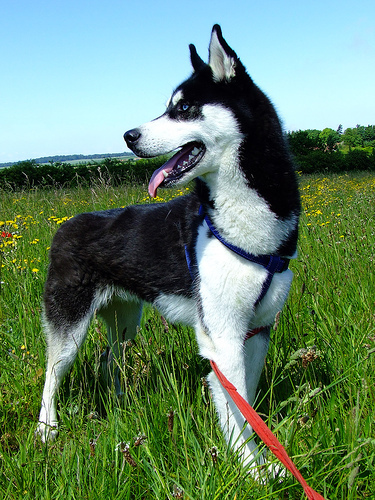dog: (33, 21, 306, 486)
